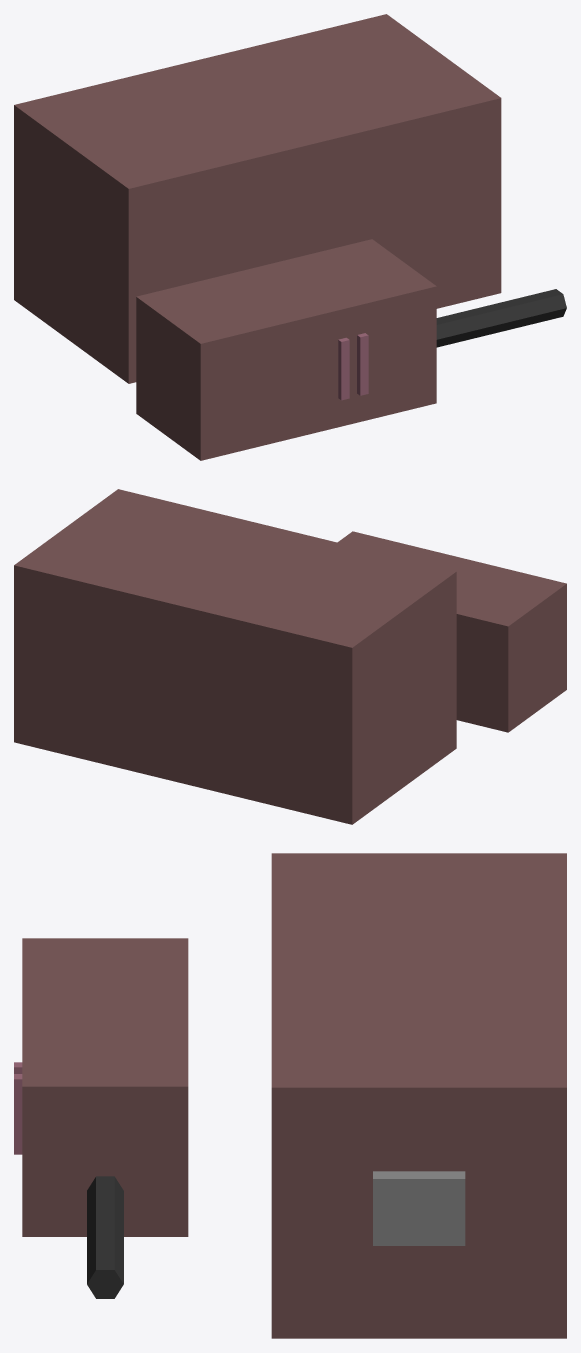
Rendered from ce_ammo2_flame_bio_b.obj.
3 renders of one model, top to bottom at view 1: azimuth 30°, elevation 25°; view 2: azimuth 150°, elevation 25°; view 3: azimuth 270°, elevation 25°, orthographic. The views are drawn at different scales.
Visible parts, largest first — view 1: ce_ammo2_flame_bio_b_0, ce_ammo2_flame_bio_b_2, ce_ammo2_flame_bio_b_5, ce_ammo2_flame_bio_b_3, ce_ammo2_flame_bio_b_4; view 2: ce_ammo2_flame_bio_b_0, ce_ammo2_flame_bio_b_2; view 3: ce_ammo2_flame_bio_b_0, ce_ammo2_flame_bio_b_2, ce_ammo2_flame_bio_b_1, ce_ammo2_flame_bio_b_5, ce_ammo2_flame_bio_b_4.
Boxes of the visible parts, x1=… form: ce_ammo2_flame_bio_b_0: x1=14, y1=14, x2=501, y2=383; ce_ammo2_flame_bio_b_2: x1=136, y1=239, x2=436, y2=460; ce_ammo2_flame_bio_b_5: x1=436, y1=289, x2=566, y2=347; ce_ammo2_flame_bio_b_3: x1=338, y1=337, x2=349, y2=400; ce_ammo2_flame_bio_b_4: x1=357, y1=333, x2=368, y2=395; ce_ammo2_flame_bio_b_0: x1=14, y1=489, x2=456, y2=824; ce_ammo2_flame_bio_b_2: x1=337, y1=531, x2=566, y2=732; ce_ammo2_flame_bio_b_0: x1=271, y1=853, x2=566, y2=1338; ce_ammo2_flame_bio_b_2: x1=22, y1=938, x2=188, y2=1236; ce_ammo2_flame_bio_b_1: x1=373, y1=1171, x2=465, y2=1245; ce_ammo2_flame_bio_b_5: x1=87, y1=1176, x2=123, y2=1298; ce_ammo2_flame_bio_b_4: x1=14, y1=1074, x2=22, y2=1154.
Size of the model in its own units: 0.66 by 0.3 by 0.599.
